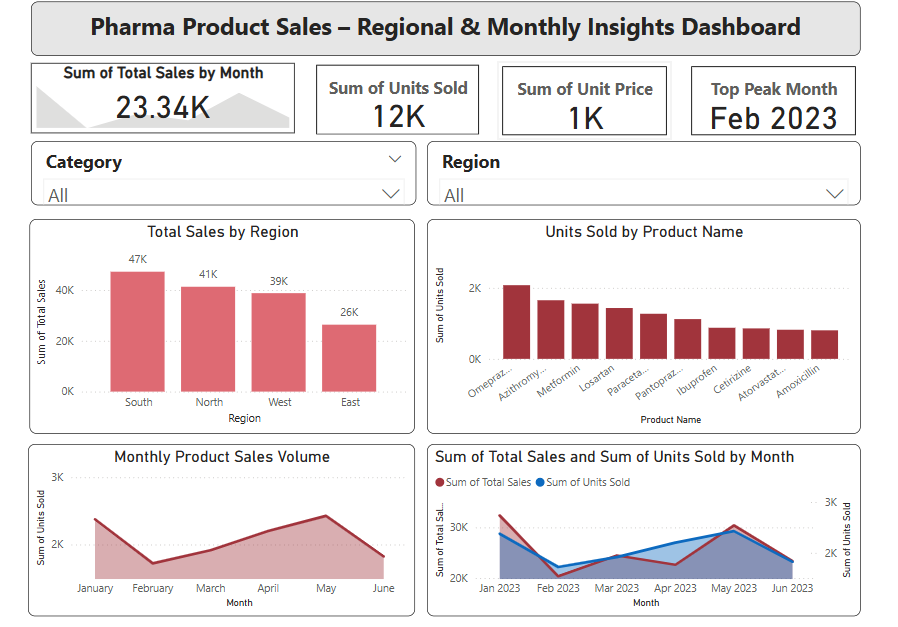

This screenshot's page, from the dashboard's own definition file:
{"tool":"powerbi","page":{"name":"Page 1","canvas":[1280,720],"ordinal":0},"visuals":[{"type":"columnChart","title":"Total Sales by Region","fields":{"Category":["Sheet1.Region"],"Y":["Sum(Sheet1.Total Sales)"]},"box":[124.3,253.7,435.6,242.4],"z":0},{"type":"slicer","fields":{"Values":["Sheet1.Category"]},"box":[126,165.5,435.6,72.9],"z":1000},{"type":"columnChart","title":"Units Sold by Product Name","fields":{"Category":["Sheet1.Product Name"],"Y":["Sum(Sheet1.Units Sold)"]},"box":[572.9,254.2,489.8,242.4],"z":2000},{"type":"slicer","fields":{"Values":["Sheet1.Region"]},"box":[572.9,166.1,489.8,72.9],"z":3000},{"type":"areaChart","title":"Monthly Product Sales Volume","fields":{"Category":["Sheet1.Date.Variation.Date Hierarchy.Month"],"Y":["Sum(Sheet1.Units Sold)"]},"box":[122.6,507.9,437.3,194.9],"z":4000},{"type":"textbox","box":[125.4,8.5,937.3,61],"z":5000},{"type":"kpi","fields":{"Indicator":["Sum(Sheet1.Total Sales)"],"TrendLine":["Sheet1.Month"]},"box":[125.4,78,298.3,79.7],"z":6000},{"type":"cardVisual","fields":{"Data":["Sum(Sheet1.Units Sold)"]},"box":[442.4,74.6,194.9,89.8],"z":7000},{"type":"cardVisual","fields":{"Data":["Sum(Sheet1.Unit Price)"]},"box":[652.5,76.3,196.6,88.1],"z":8000},{"type":"cardVisual","fields":{"Data":["Sheet1.Peak Month with top 1"]},"box":[866.1,76.3,196.6,88.1],"z":9000},{"type":"areaChart","fields":{"Category":["Sheet1.Month"],"Y":["Sum(Sheet1.Total Sales)"],"Y2":["Sum(Sheet1.Units Sold)"]},"box":[572.9,508.5,489.8,194.9],"z":10000}]}

Visuals, with their boxes on the page's 1280x720 design canvas (x1, y1, x2, y2). These are canvas units, not pixel positions in the 898x627 screenshot, which may show the page scaled, cropped or inside an application window:
"Total Sales by Region" columnChart: box=[124, 254, 560, 496]
slicer - Sheet1.Category: box=[126, 166, 562, 238]
"Units Sold by Product Name" columnChart: box=[573, 254, 1063, 497]
slicer - Sheet1.Region: box=[573, 166, 1063, 239]
"Monthly Product Sales Volume" areaChart: box=[123, 508, 560, 703]
textbox: box=[125, 8, 1063, 70]
kpi - Sum(Sheet1.Total Sales) x Sheet1.Month: box=[125, 78, 424, 158]
cardVisual - Sum(Sheet1.Units Sold): box=[442, 75, 637, 164]
cardVisual - Sum(Sheet1.Unit Price): box=[652, 76, 849, 164]
cardVisual - Sheet1.Peak Month with top 1: box=[866, 76, 1063, 164]
areaChart - Sheet1.Month x Sum(Sheet1.Total Sales): box=[573, 508, 1063, 703]
